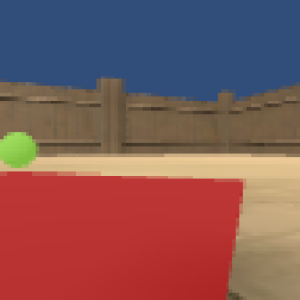deathZone: (1, 171, 239, 296)
goodGoal: (1, 129, 39, 172)
